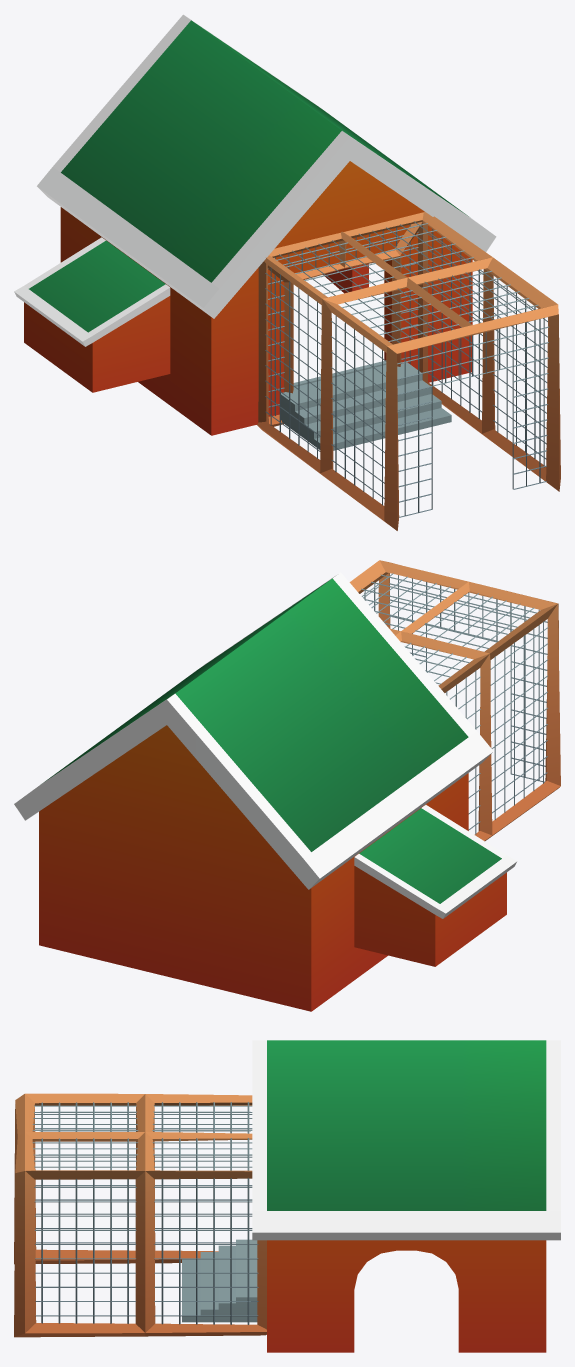
File: Coop.fbx
The picture shows the model from 3 angles, top to bottom: view 1: azimuth 30°, elevation 25°; view 2: azimuth 150°, elevation 25°; view 3: azimuth 270°, elevation 25°; orthographic projection. The views are drawn at different scales.
Visible parts, largest first — view 1: Coop; view 2: Coop; view 3: Coop.
Boxes of the visible parts, x1=… form: Coop: x1=14, y1=14, x2=560, y2=530; Coop: x1=14, y1=560, x2=560, y2=1011; Coop: x1=14, y1=1040, x2=560, y2=1352.
Bounding box in the file's own units: 2.45 × 1.8 × 3.43.
